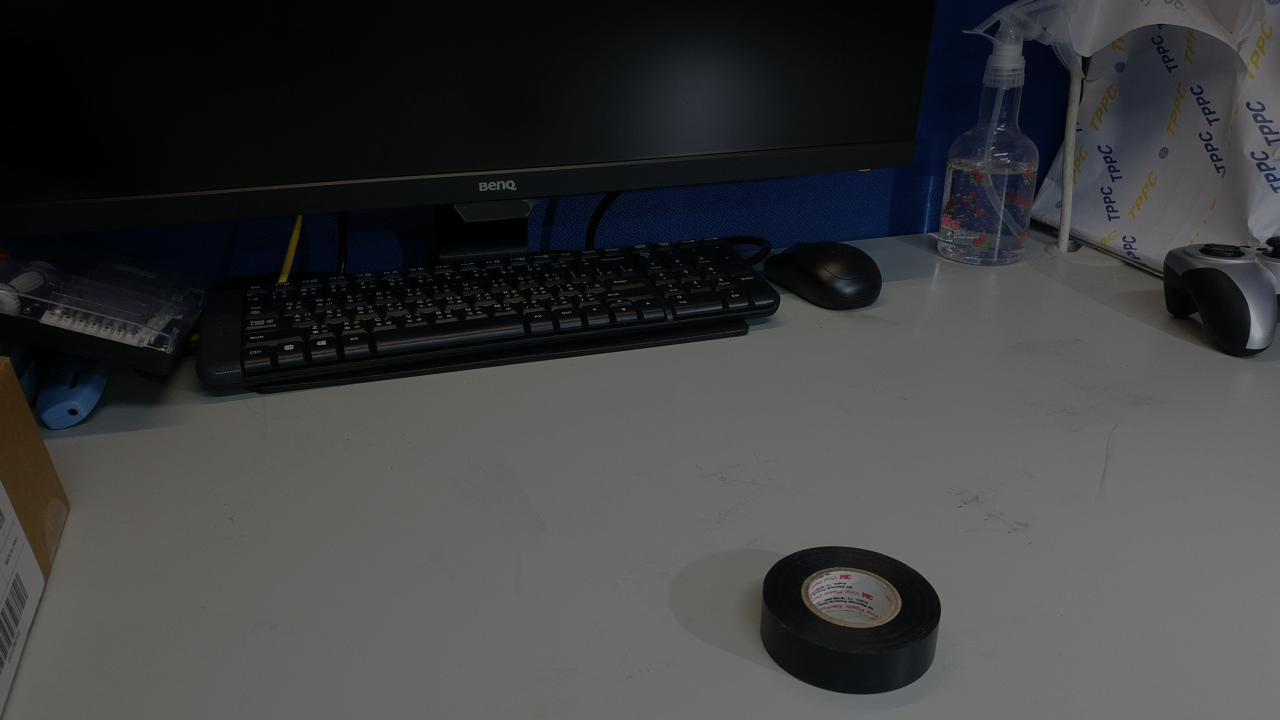long: (835, 283, 1017, 385)
